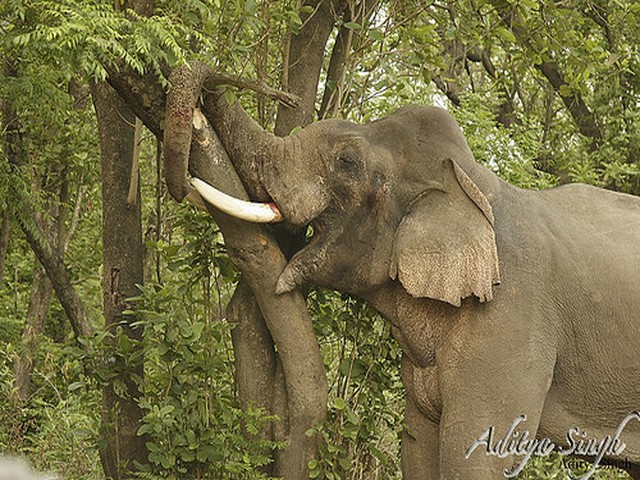Elephant: (166, 59, 640, 420)
